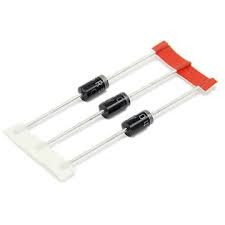diode: (118, 110, 166, 158), (65, 68, 108, 98)
